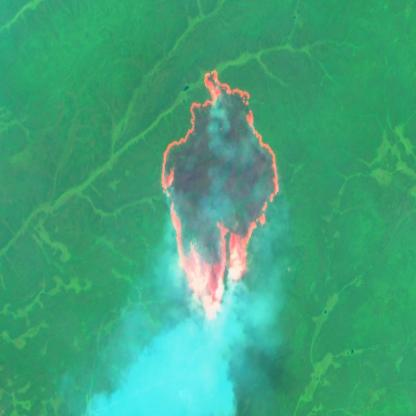fire: (155, 63, 283, 326)
